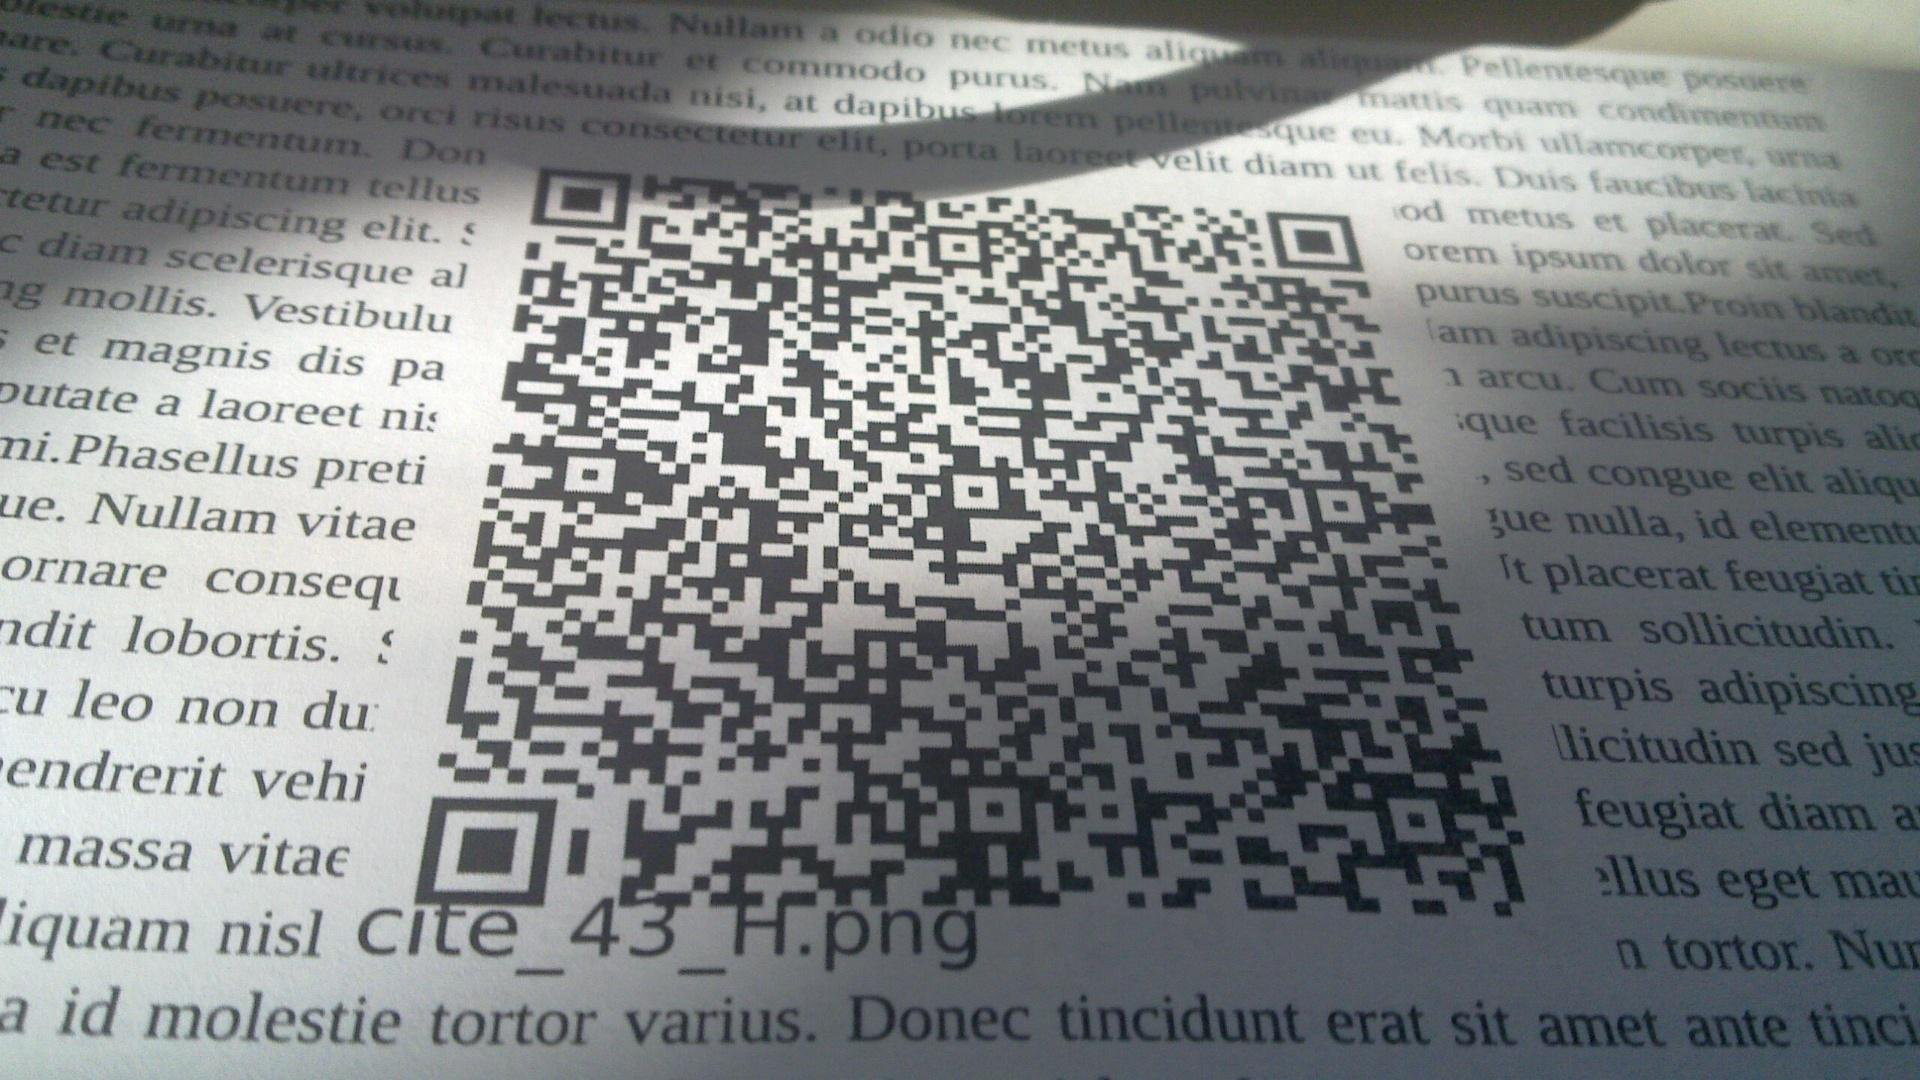Finder pattern: (413, 793, 566, 910), (522, 156, 636, 233), (1259, 204, 1375, 280)
